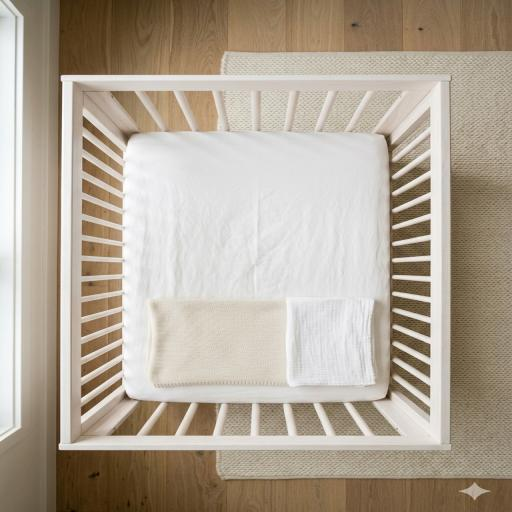crib: (111, 91, 418, 436)
